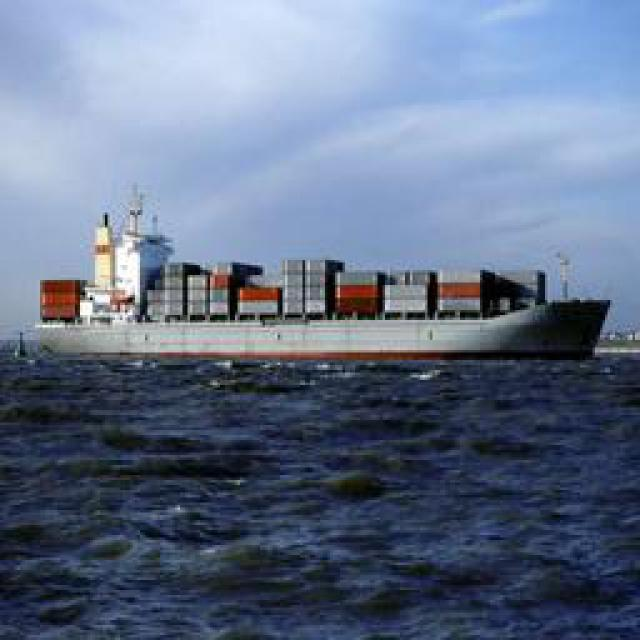Ship: (27, 252, 605, 370)
